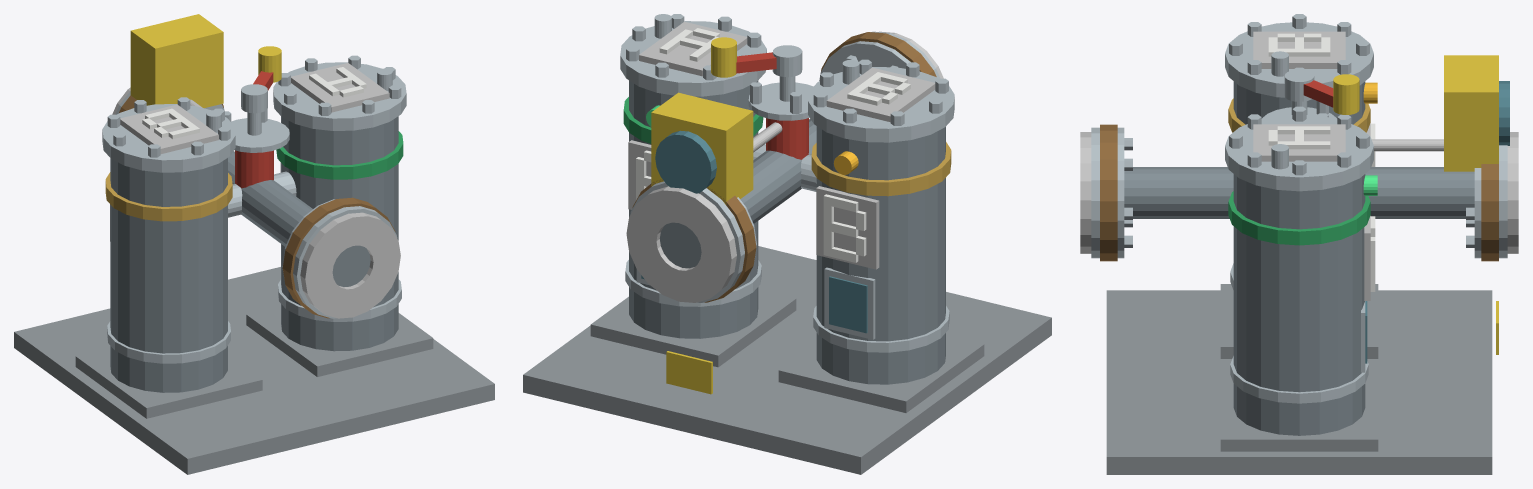
The model's file is body_a_closed.obj.
3 views of the same model, side by side, from view 1: azimuth 30°, elevation 25°; view 2: azimuth 150°, elevation 25°; view 3: azimuth 270°, elevation 25° (orthographic). The views are drawn at different scales.
Size of the model in its own units: 0.9 by 0.835 by 1.
